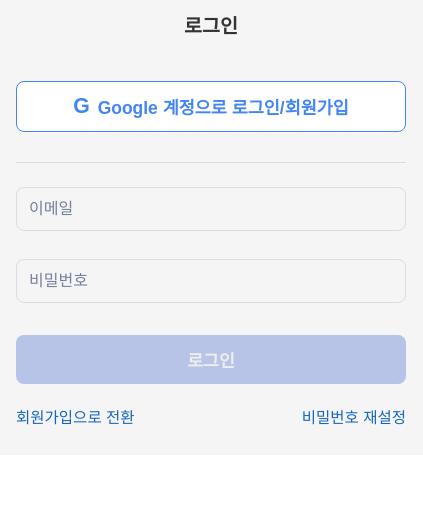
Test case: AuthForm › 로그인 실패 - 비밀번호 검증 실패
Type "test@test.com" into the field with placeholder "이메일" at coordinates (211, 208), box [16,186,406,230]
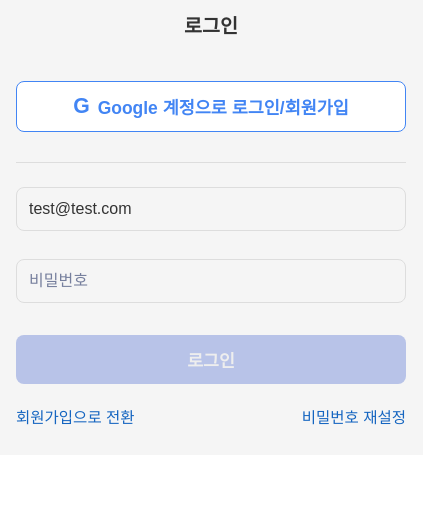
Type "1234" into the password field with placeholder "비밀번호" at coordinates (211, 280), box [16,258,406,302]
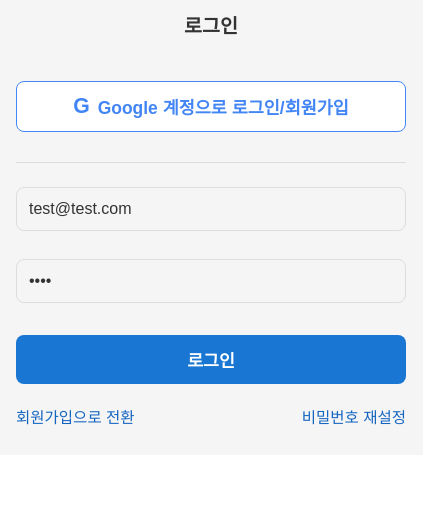
Click the button "로그인" at coordinates (211, 359), box [16,334,406,384]
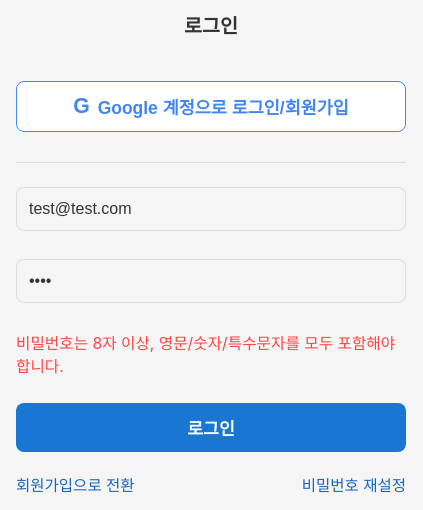
Check: the text "비밀번호는 8자 이상, 영문/숫자/특수문자를 모두 포함해야 합니다." is shown, box [16,330,406,376]
